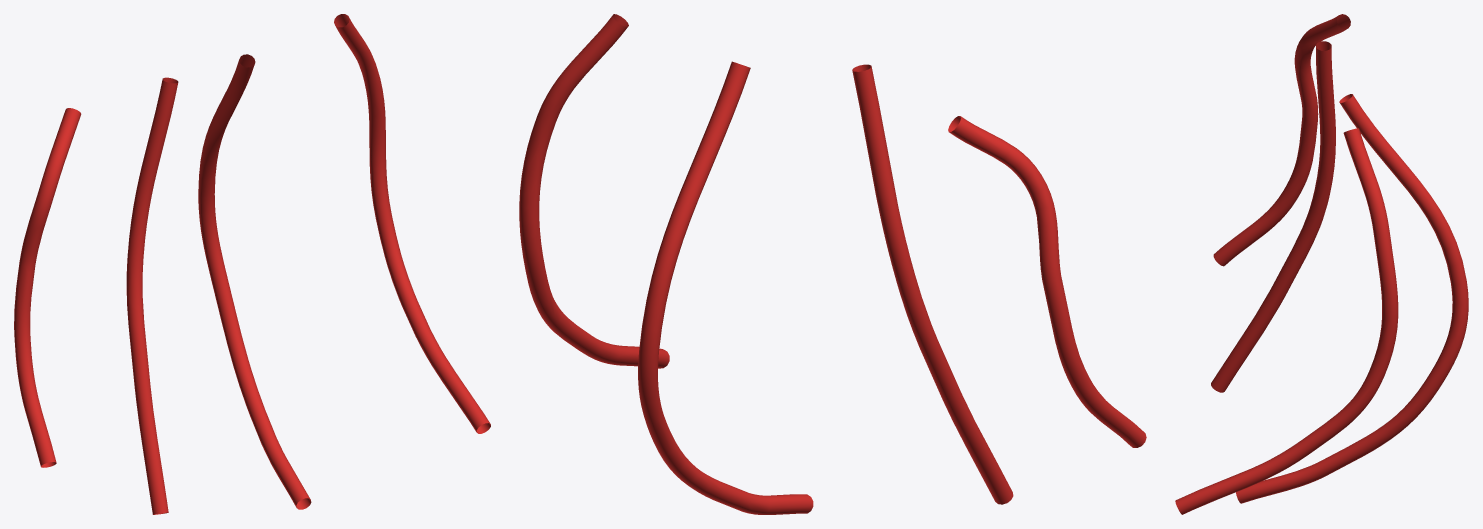
Rendered from circulatorio-palmar-metacarpal-arteries-r.glb.
3 renders of one model, left to right at view 1: azimuth 30°, elevation 25°; view 2: azimuth 150°, elevation 25°; view 3: azimuth 270°, elevation 25°, orthographic. The views are drawn at different scales.
Visible parts, largest first — view 1: Palmar metacarpal arteries.r; view 2: Palmar metacarpal arteries.r; view 3: Palmar metacarpal arteries.r.
Boxes of the visible parts, bbox=[...] form: Palmar metacarpal arteries.r: bbox=[14, 14, 490, 514]; Palmar metacarpal arteries.r: bbox=[519, 14, 1146, 514]; Palmar metacarpal arteries.r: bbox=[1175, 14, 1468, 514].
Bounding box in the file's own units: 0.0421 × 0.0402 × 0.0253.
